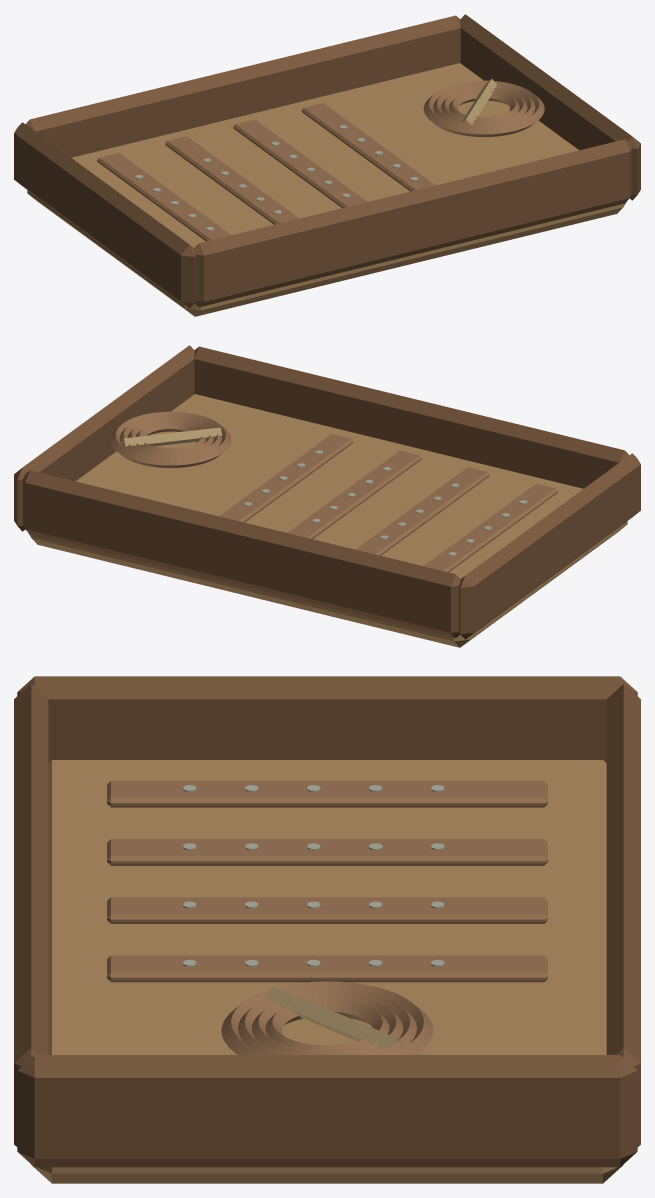
3 renders of one model, top to bottom at view 1: azimuth 30°, elevation 25°; view 2: azimuth 150°, elevation 25°; view 3: azimuth 270°, elevation 25°, orthographic. The views are drawn at different scales.
Visible parts, largest first — view 1: BA-0055 batched; view 2: BA-0055 batched; view 3: BA-0055 batched.
Boxes of the visible parts, left/top/right/bottom form: BA-0055 batched: left=14, top=14, right=640, bottom=316; BA-0055 batched: left=14, top=345, right=640, bottom=647; BA-0055 batched: left=14, top=676, right=640, bottom=1183.
Size of the model in its own units: 0.675 by 0.11 by 0.455.
